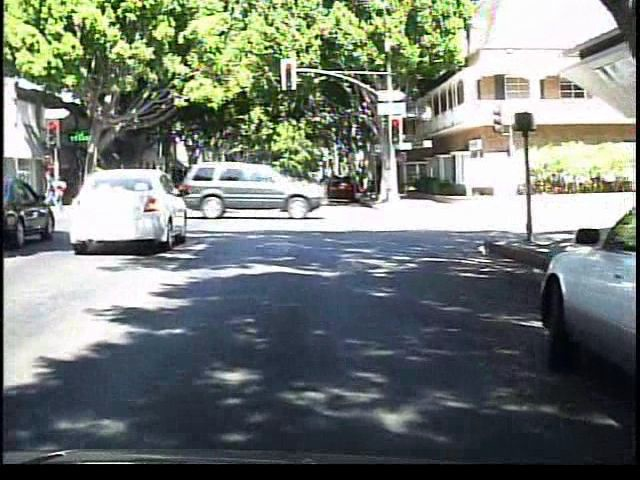person: (46, 165, 73, 212)
